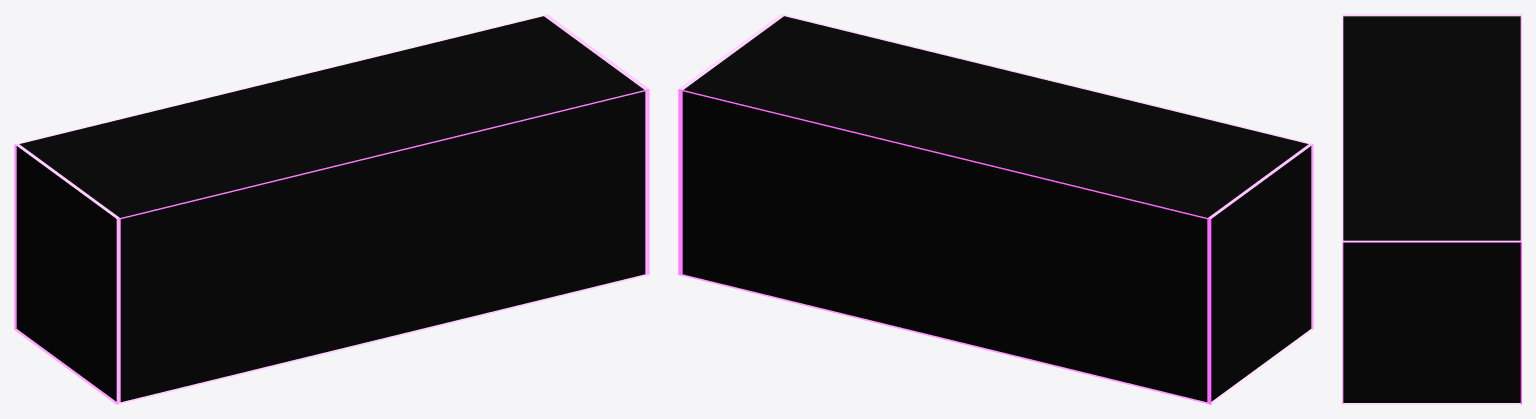
Rendered from neonRECTANGLE.fbx.
3 renders of one model, left to right at view 1: azimuth 30°, elevation 25°; view 2: azimuth 150°, elevation 25°; view 3: azimuth 270°, elevation 25°, orthographic. The views are drawn at different scales.
Parts seen in each view (by area): view 1: Cube; view 2: Cube; view 3: Cube.
Boxes of the visible parts, x1,y1,x2,y2 form: Cube: (14, 14, 649, 404); Cube: (678, 14, 1313, 404); Cube: (1342, 14, 1521, 404).
Bounding box in the file's own units: 805 × 268 × 268.
